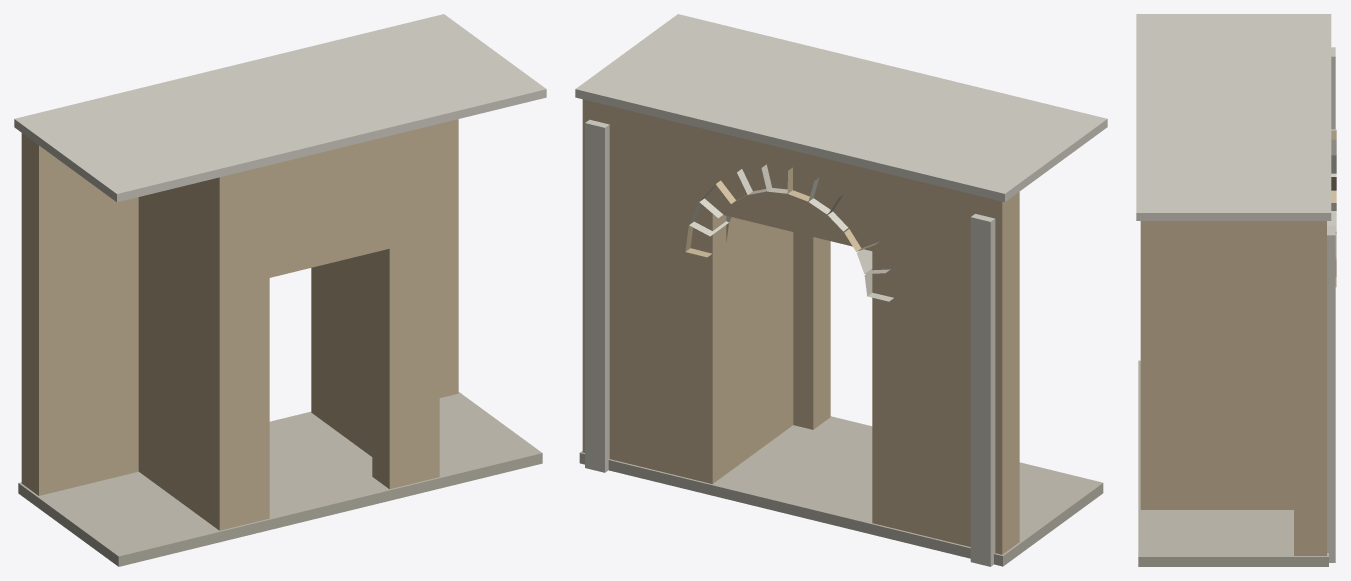
The model's file is entry_recess_arch_a.glb.
3 views of the same model, side by side, from view 1: azimuth 30°, elevation 25°; view 2: azimuth 150°, elevation 25°; view 3: azimuth 270°, elevation 25° (orthographic). The views are drawn at different scales.
Visible parts, largest first — view 1: LOD0; view 2: LOD0; view 3: LOD0.
Boxes of the visible parts, box(x1,y1,x2,y2) form: LOD0: box(14, 14, 546, 566); LOD0: box(575, 14, 1107, 566); LOD0: box(1136, 14, 1336, 566).
Bounding box in the file's own units: 4.3 × 3.58 × 1.83.
